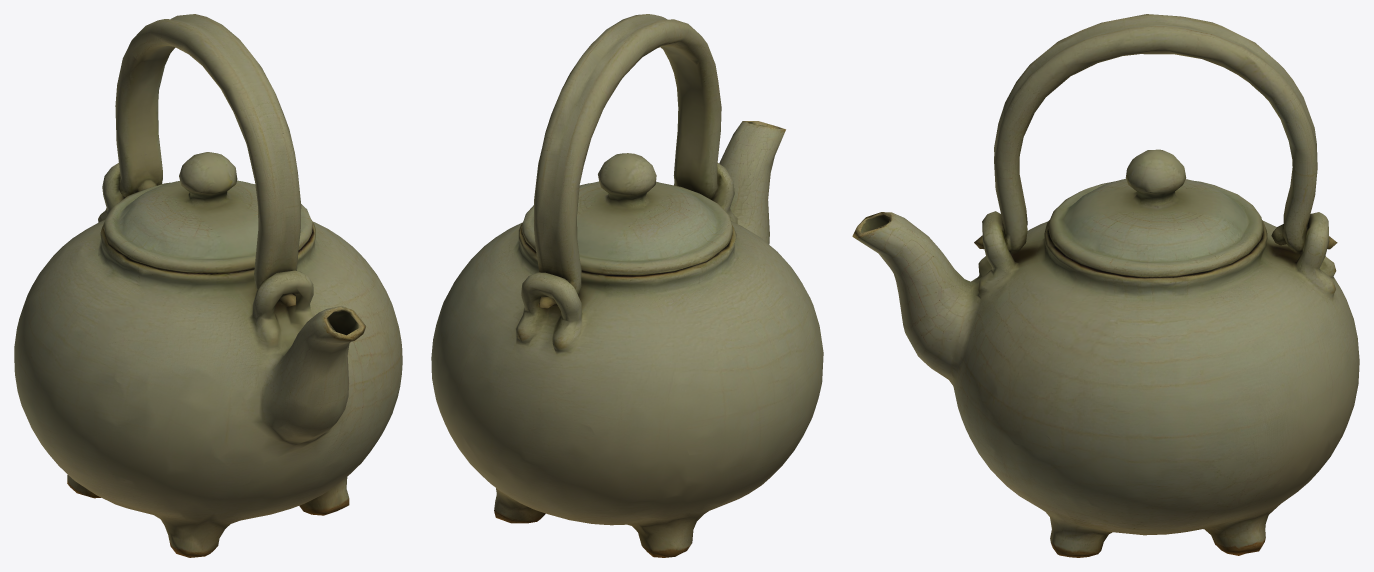
Rendered from teapot.glb.
3 renders of one model, left to right at view 1: azimuth 30°, elevation 25°; view 2: azimuth 150°, elevation 25°; view 3: azimuth 270°, elevation 25°, orthographic. The views are drawn at different scales.
Visible parts, largest first — view 1: tripo_node_479d4ebc-d5fd-47a5-84c4-c517df69e924; view 2: tripo_node_479d4ebc-d5fd-47a5-84c4-c517df69e924; view 3: tripo_node_479d4ebc-d5fd-47a5-84c4-c517df69e924.
Part boxes in pixels (x1,y1,x2,y2): tripo_node_479d4ebc-d5fd-47a5-84c4-c517df69e924: (14, 14, 402, 557); tripo_node_479d4ebc-d5fd-47a5-84c4-c517df69e924: (431, 14, 823, 557); tripo_node_479d4ebc-d5fd-47a5-84c4-c517df69e924: (852, 14, 1359, 557).
Size of the model in its own units: 0.7472 by 1 by 0.9333.
Materials: 1 (1 with a texture image).
